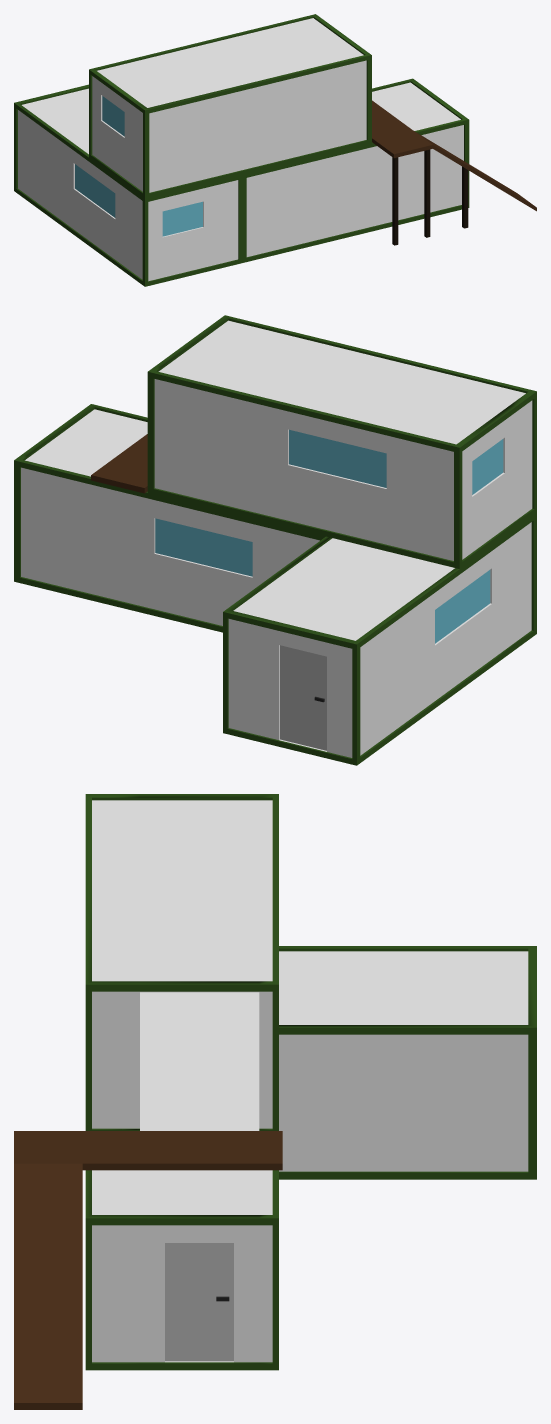
File: containers-office.glb
3 renders of one model, top to bottom at view 1: azimuth 30°, elevation 25°; view 2: azimuth 150°, elevation 25°; view 3: azimuth 270°, elevation 25°, orthographic. The views are drawn at different scales.
Visible parts, largest first — view 1: Office Container Stack; view 2: Office Container Stack; view 3: Office Container Stack.
Boxes of the visible parts, <box> form: Office Container Stack: <box>14,14,536,286</box>; Office Container Stack: <box>14,315,536,765</box>; Office Container Stack: <box>14,794,536,1409</box>.
Bounding box in the file's own units: 11.45 × 5.2 × 8.11.
Materials: 1 (1 with a texture image).
